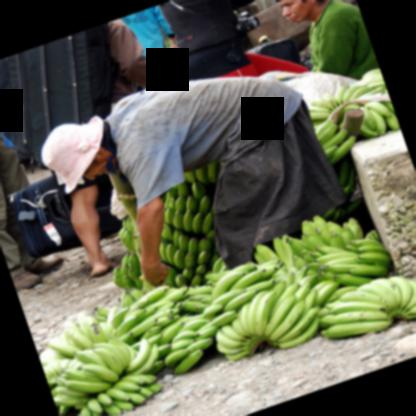handbag: (161, 27, 178, 73)
suitcase: (0, 23, 110, 168), (10, 174, 123, 259)
